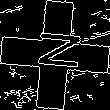N_W: (28, 33, 82, 77)
